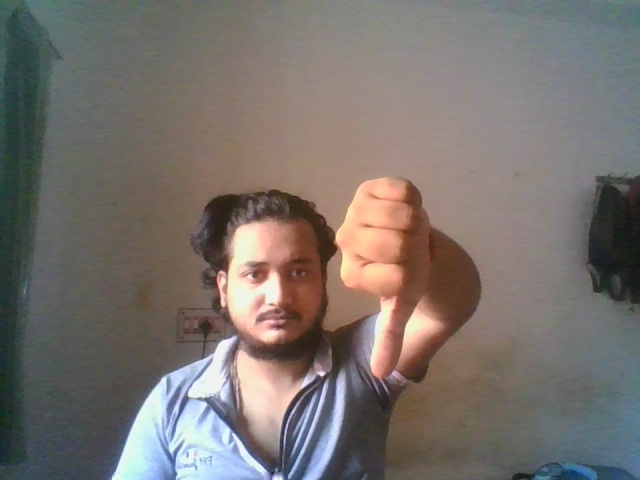ThumbsDown: (333, 175, 432, 381)
